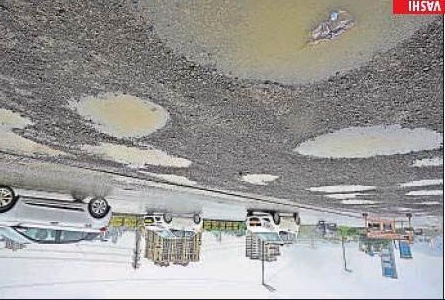pothole: (131, 0, 445, 90), (291, 122, 444, 163), (69, 91, 172, 140), (85, 141, 191, 173), (309, 183, 375, 195), (240, 172, 280, 188), (401, 188, 445, 199), (399, 179, 444, 189), (339, 199, 379, 207)
